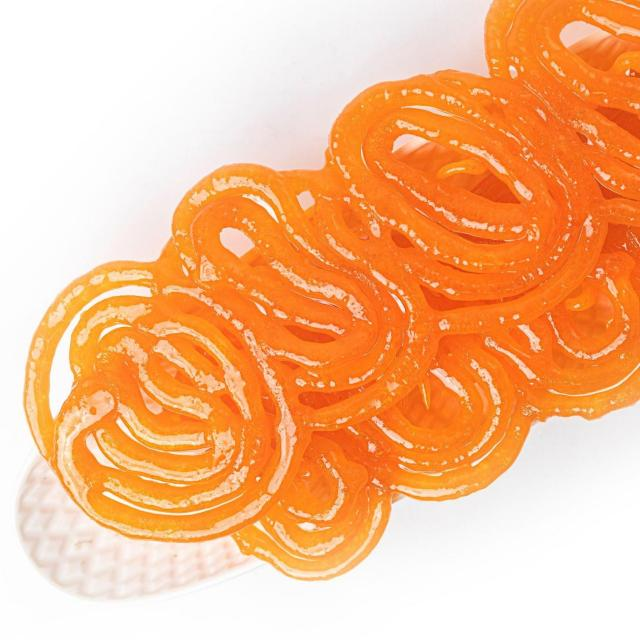jalebi: (305, 8, 640, 507), (25, 182, 385, 579)
